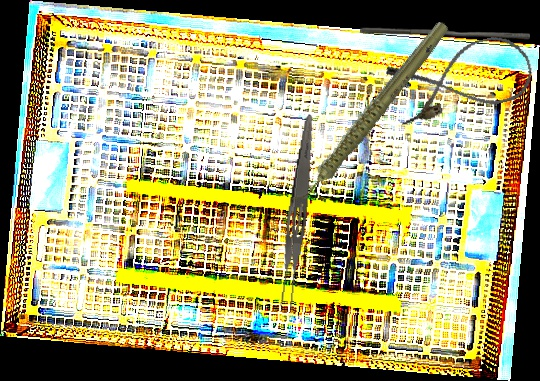Cannula: (384, 29, 538, 129)
Dressing Forceps: (275, 112, 318, 311)
Handpiece: (258, 18, 480, 207)
Pusher: (360, 27, 530, 40)
